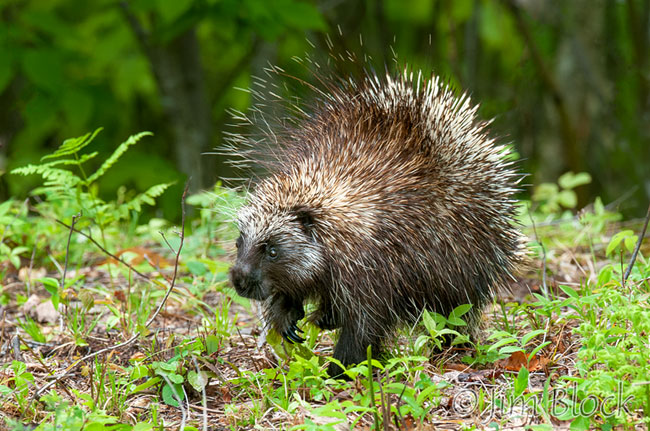porcupine: (191, 21, 547, 380)
